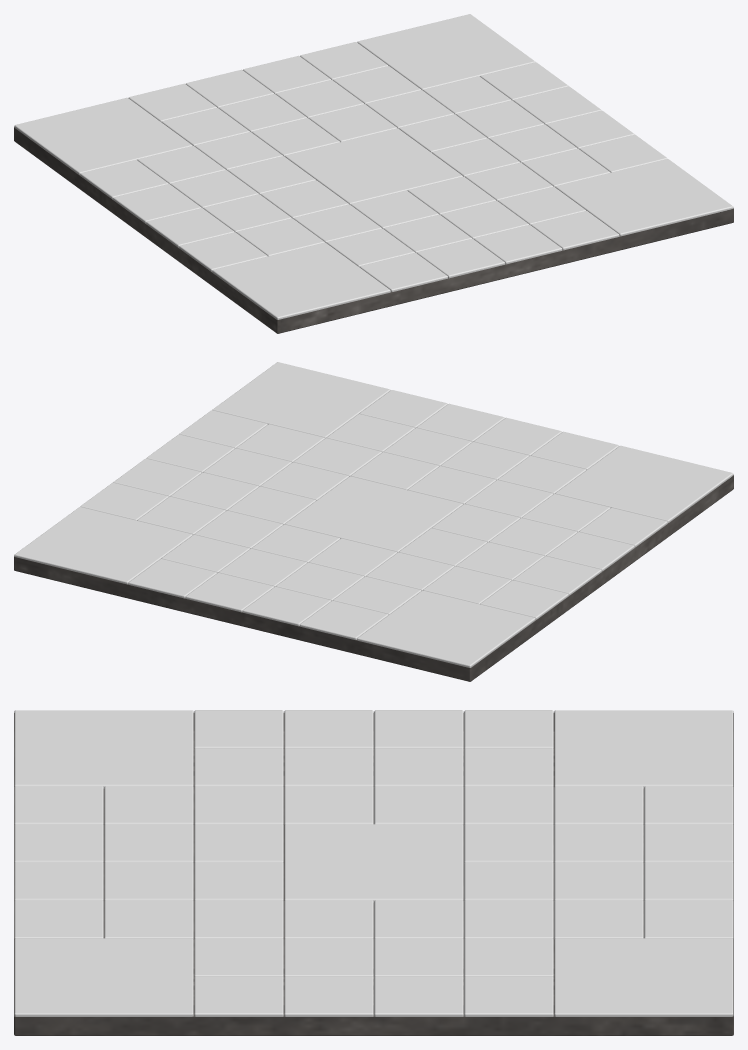
Rendered from SK7 CEILING LARGE.fbx.
3 views of the same model, one above another, from view 1: azimuth 30°, elevation 25°; view 2: azimuth 150°, elevation 25°; view 3: azimuth 270°, elevation 25° (orthographic). The views are drawn at different scales.
Parts seen in each view (by area): view 1: SK7 CEILING LARGE; view 2: SK7 CEILING LARGE; view 3: SK7 CEILING LARGE.
Part boxes in pixels (bbox=[...]): SK7 CEILING LARGE: bbox=[14, 14, 733, 333]; SK7 CEILING LARGE: bbox=[14, 362, 733, 681]; SK7 CEILING LARGE: bbox=[14, 710, 733, 1035].
Bounding box in the file's own units: 400 × 13.93 × 400.
